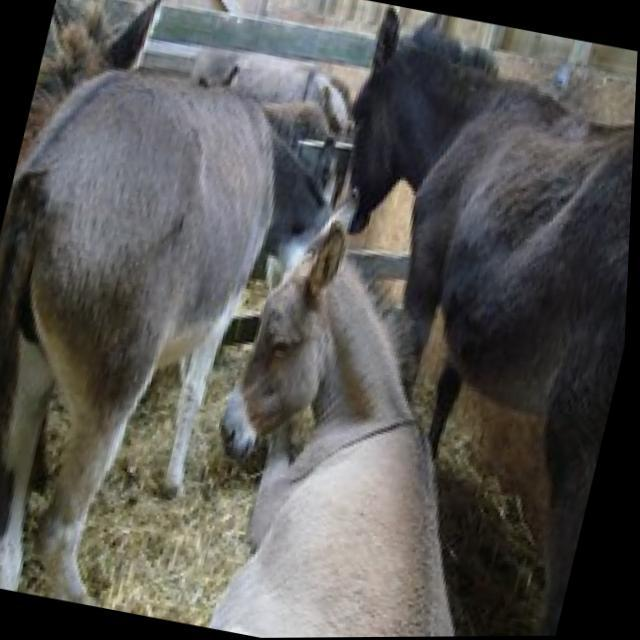Donkey: (233, 1, 640, 638), (0, 0, 327, 621), (178, 201, 574, 638), (95, 38, 375, 518), (0, 0, 177, 592), (167, 39, 375, 203)
